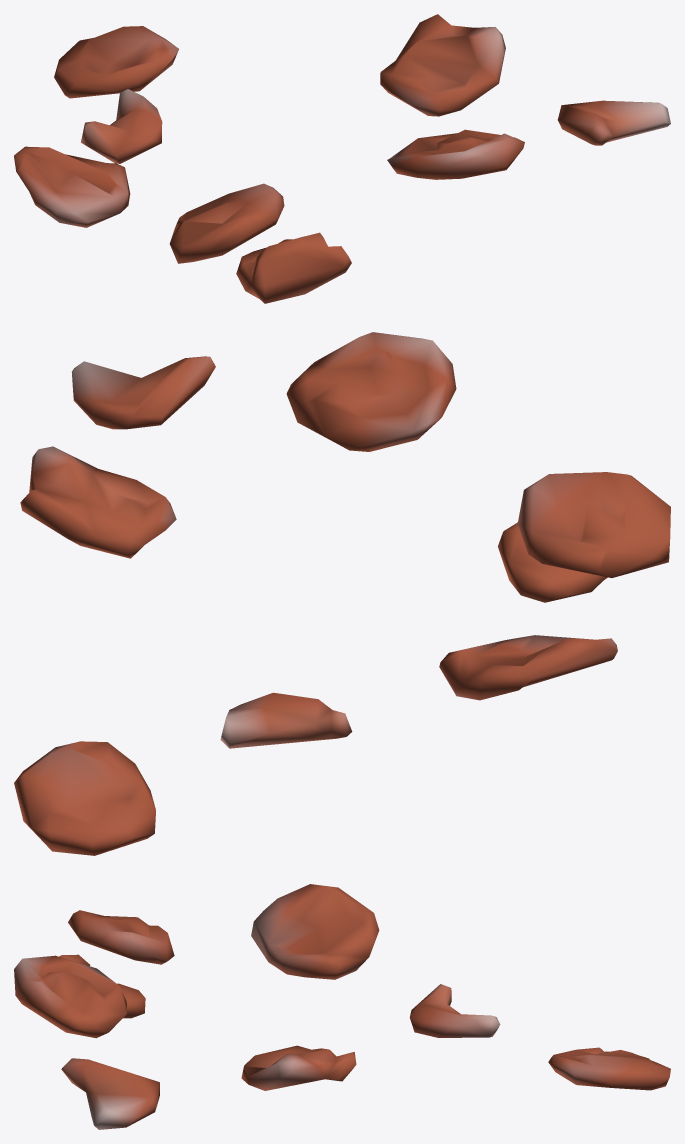
3 views of the same model, one above another, from view 1: azimuth 30°, elevation 25°; view 2: azimuth 150°, elevation 25°; view 3: azimuth 270°, elevation 25° (orthographic). The views are drawn at different scales.
Visible parts, largest first — view 1: LOD 4_14118979198586646984_820756dedd5b3434c8e6bed8ae6a193b; view 2: LOD 4_14118979198586646984_820756dedd5b3434c8e6bed8ae6a193b; view 3: LOD 4_14118979198586646984_820756dedd5b3434c8e6bed8ae6a193b.
Part boxes in pixels (box(x1,y1,x2,y2)): LOD 4_14118979198586646984_820756dedd5b3434c8e6bed8ae6a193b: box(14, 14, 670, 303); LOD 4_14118979198586646984_820756dedd5b3434c8e6bed8ae6a193b: box(14, 332, 670, 855); LOD 4_14118979198586646984_820756dedd5b3434c8e6bed8ae6a193b: box(14, 884, 670, 1129).
Bounding box in the file's own units: 2.56 × 0.7135 × 2.91.
